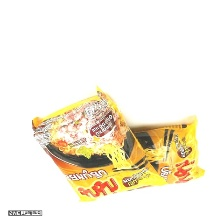snack: (26, 81, 172, 209), (99, 109, 209, 199)
